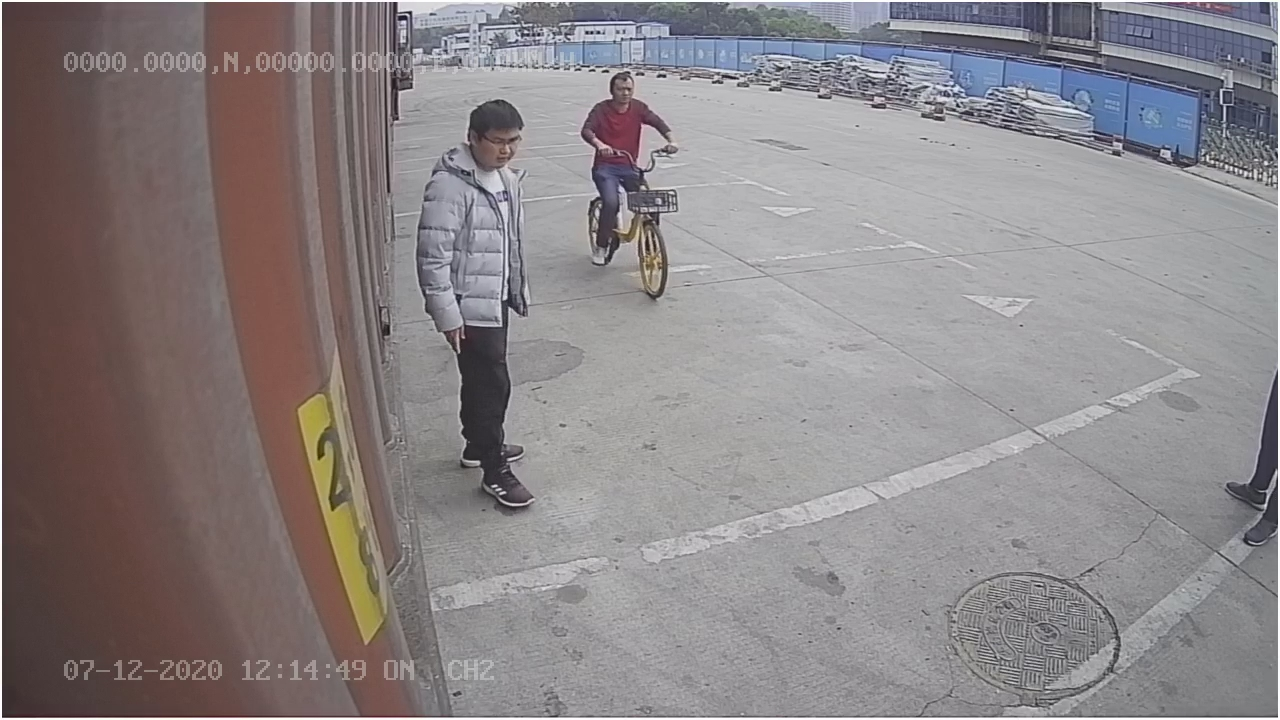person: (413, 88, 543, 511)
